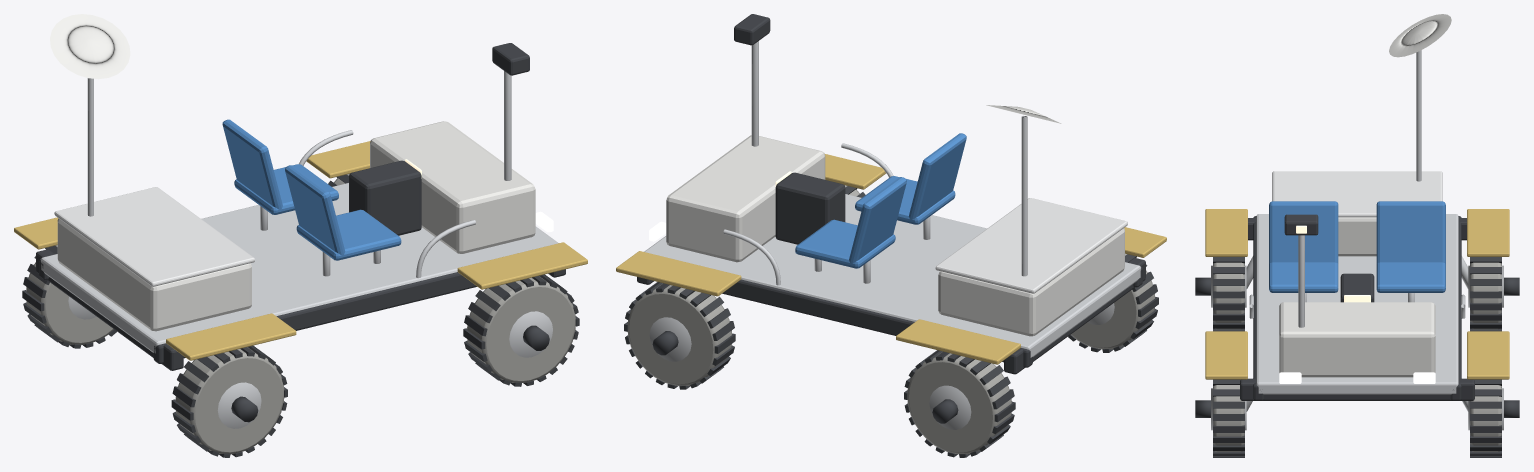
The model's file is rover.glb.
3 renders of one model, left to right at view 1: azimuth 30°, elevation 25°; view 2: azimuth 150°, elevation 25°; view 3: azimuth 270°, elevation 25°, orthographic. The views are drawn at different scales.
Bounding box in the file's own units: 3.72 × 2.95 × 2.9.
